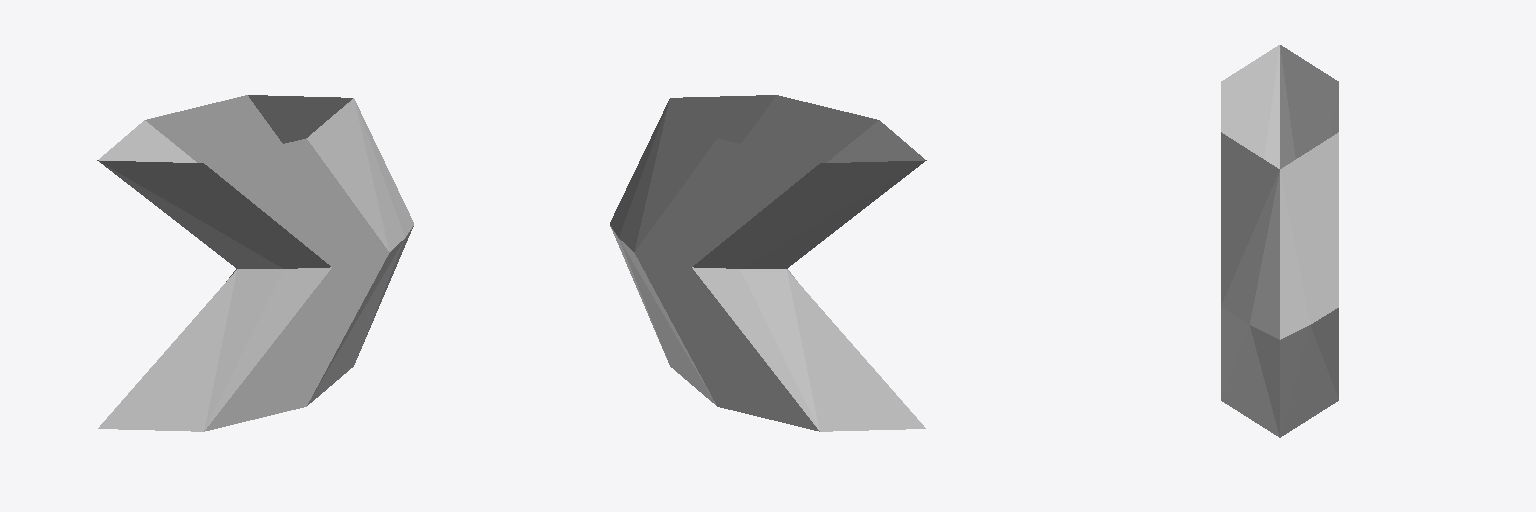
Rendered from helium_back_mid.obj.
3 views of the same model, side by side, from view 1: azimuth 30°, elevation 25°; view 2: azimuth 150°, elevation 25°; view 3: azimuth 270°, elevation 25° (orthographic).
Visible parts, largest first — view 1: HeliumBackMid; view 2: HeliumBackMid; view 3: HeliumBackMid.
Boxes of the visible parts, x1=… form: HeliumBackMid: x1=97, y1=95, x2=413, y2=431; HeliumBackMid: x1=610, y1=95, x2=926, y2=431; HeliumBackMid: x1=1221, y1=45, x2=1338, y2=437.
Bounding box in the file's own units: 2.47 × 2 × 0.8.